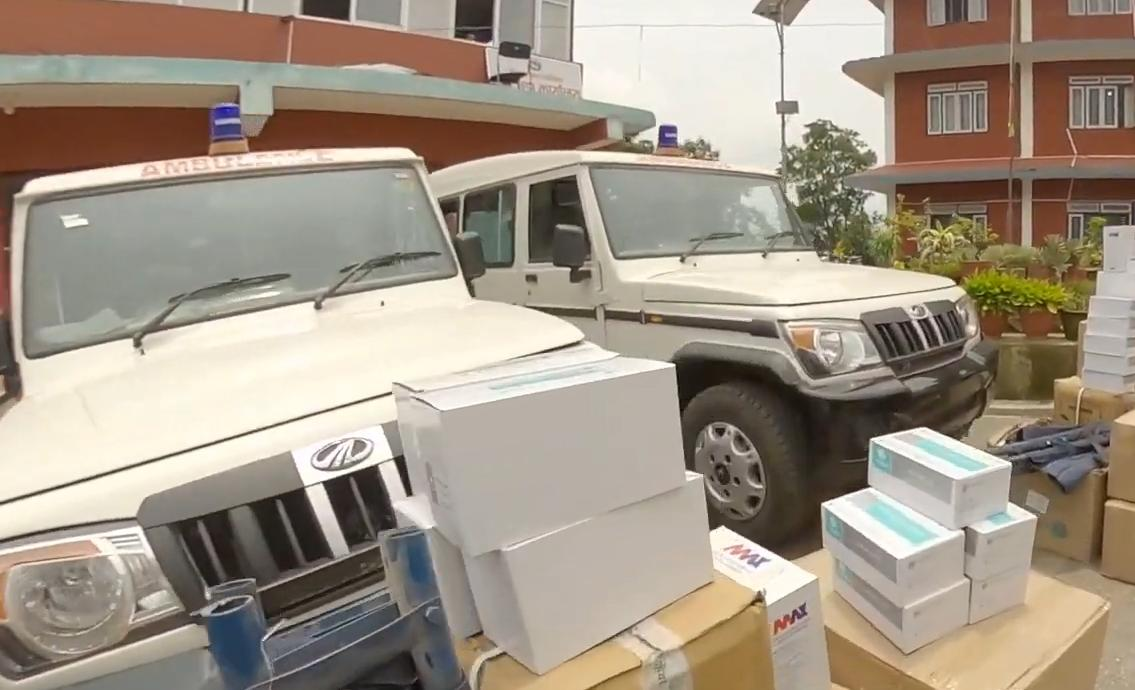ambulance: (3, 98, 742, 690), (424, 114, 998, 541)
